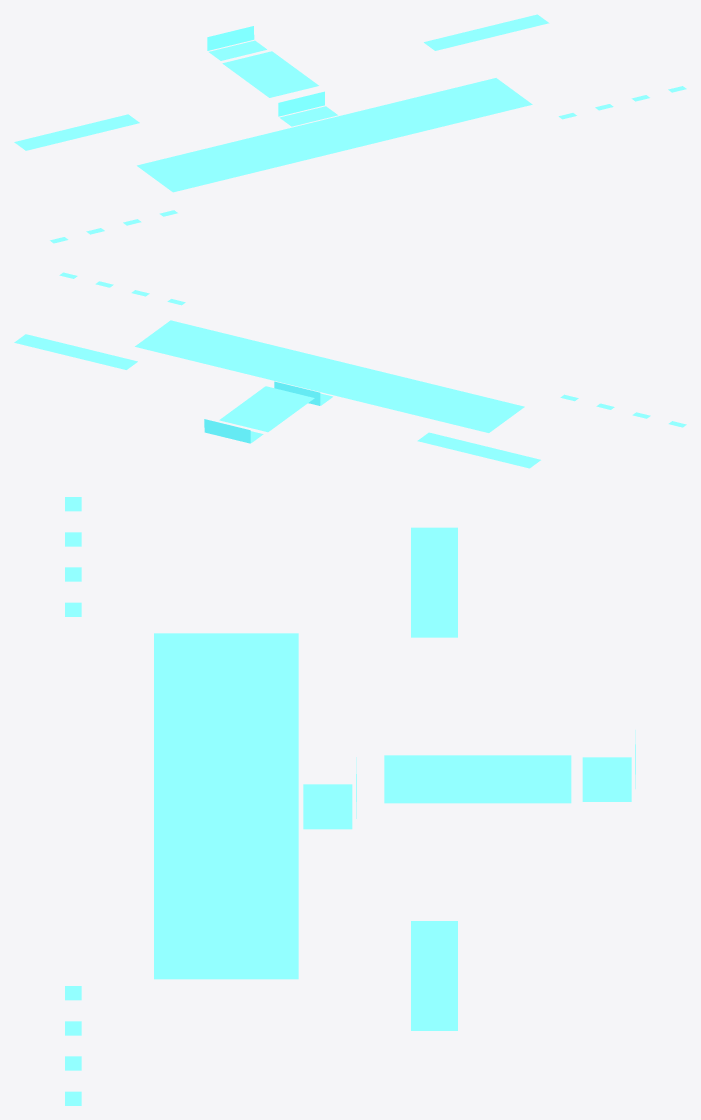
Rendered from E6-6_Agua.fbx.
3 renders of one model, top to bottom at view 1: azimuth 30°, elevation 25°; view 2: azimuth 150°, elevation 25°; view 3: azimuth 270°, elevation 25°, orthographic. The views are drawn at different scales.
Parts seen in each view (by area): view 1: E6-6_Agua; view 2: E6-6_Agua; view 3: E6-6_Agua.
Part boxes in pixels (x1,y1,x2,y2): E6-6_Agua: (14, 14, 686, 243); E6-6_Agua: (14, 272, 686, 468); E6-6_Agua: (65, 497, 635, 1105).
Size of the model in its own units: 217 by 9.05 by 85.82.
